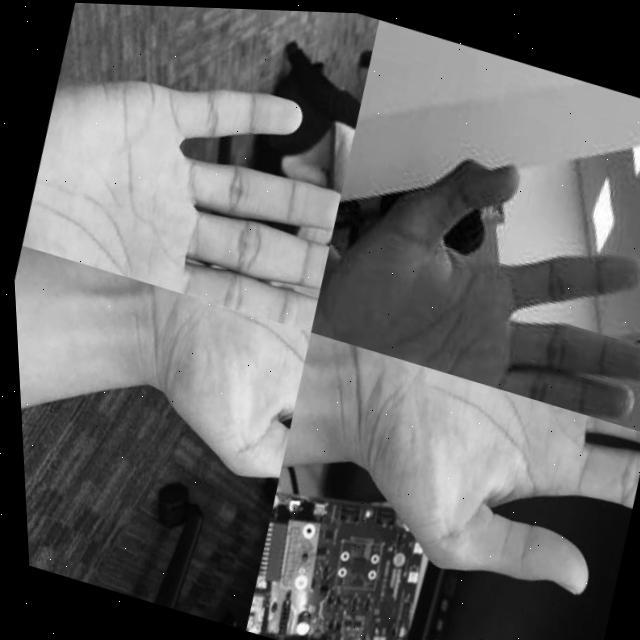no-gloves: (10, 28, 365, 331), (300, 111, 640, 426), (279, 334, 640, 616), (66, 269, 314, 492)
